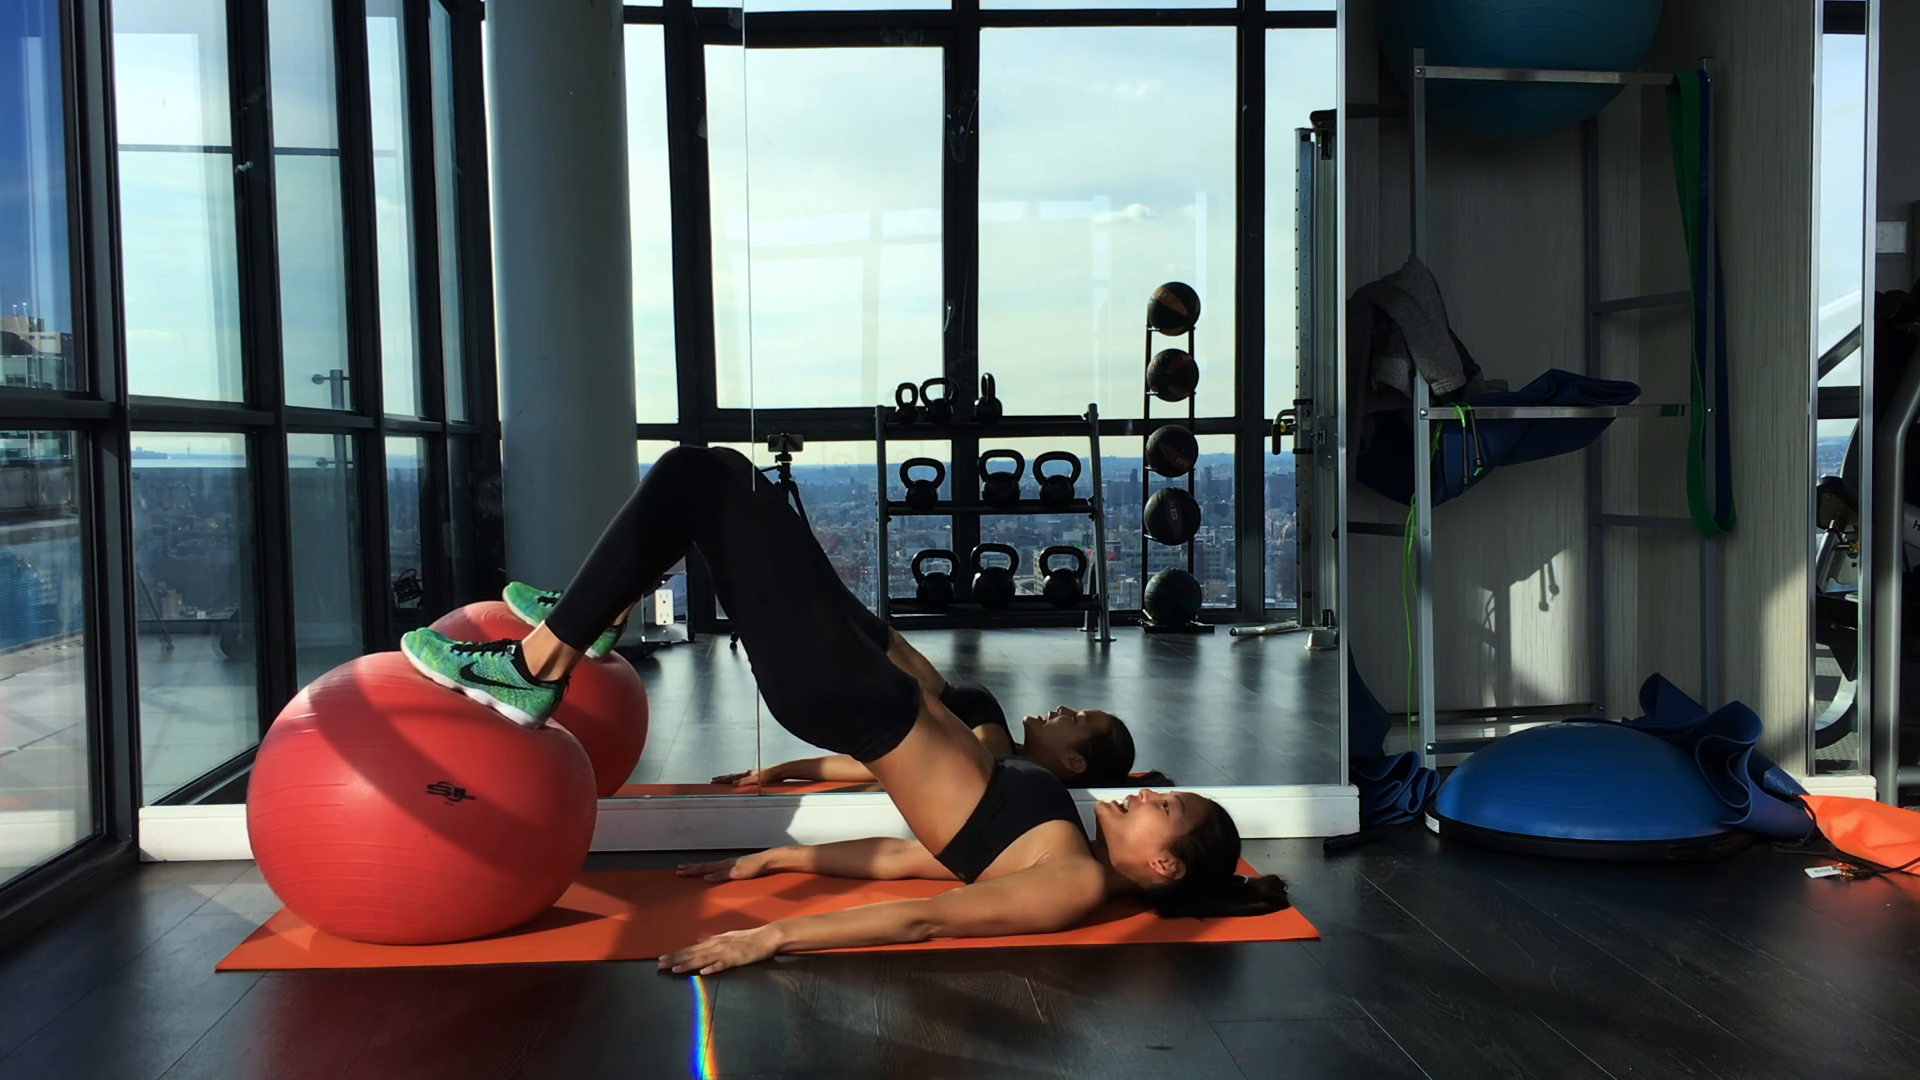yogaball: (235, 641, 616, 945)
